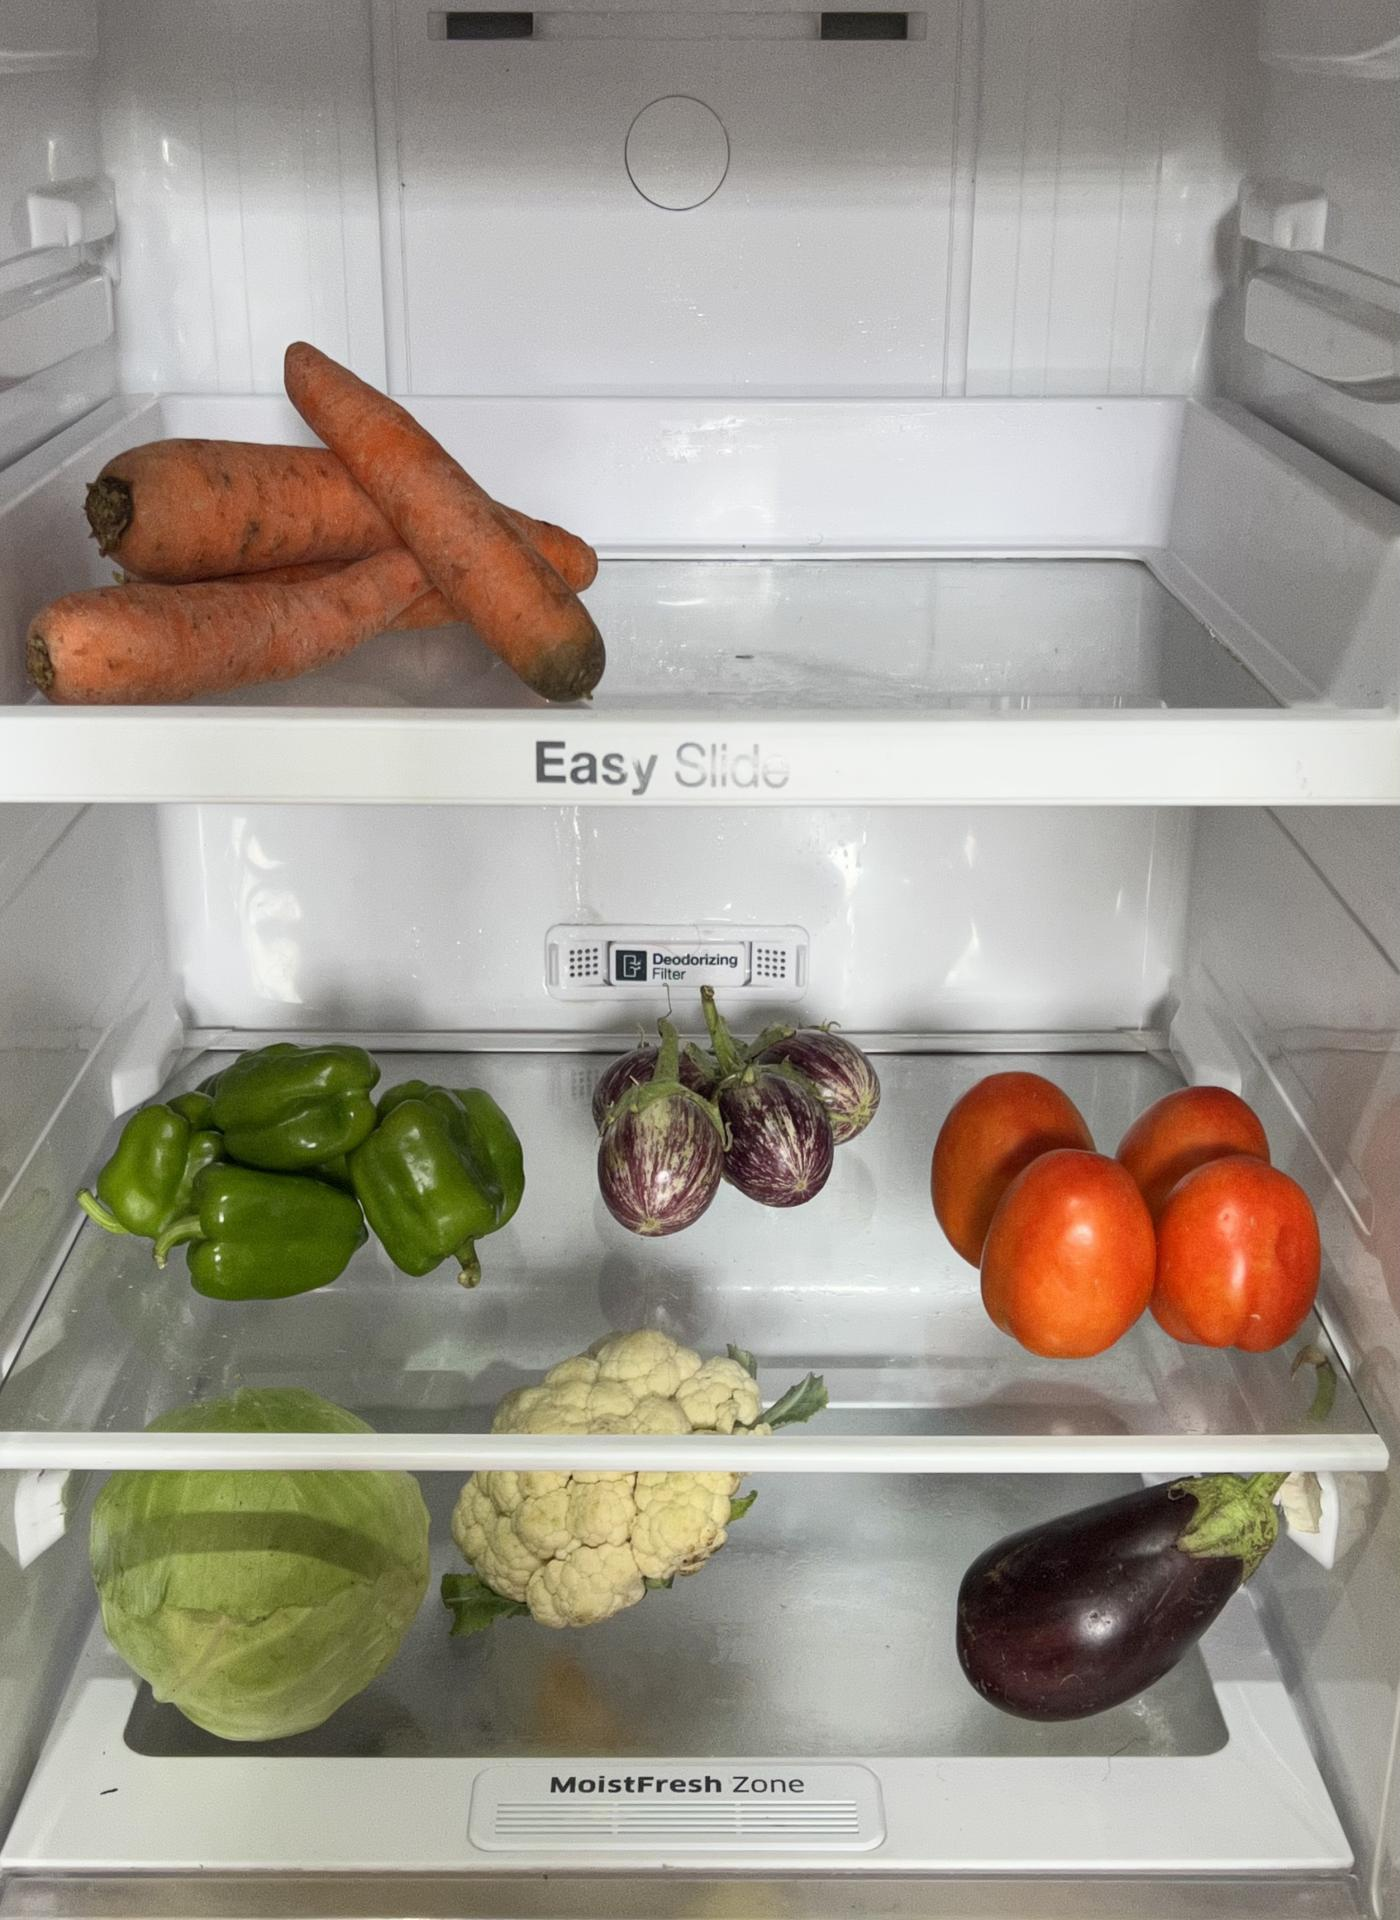cabbage: (85, 1467, 432, 1731)
capsicum: (91, 1038, 523, 1294)
carrots: (22, 405, 598, 702)
cauliflower: (443, 1321, 762, 1617)
tomato: (932, 1069, 1315, 1357)
